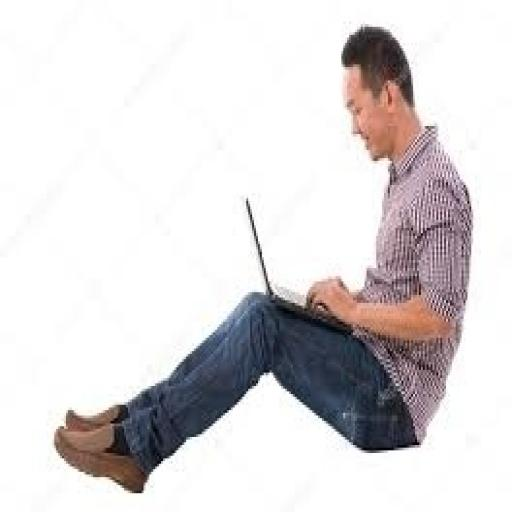using_laptop: (240, 193, 355, 335)
